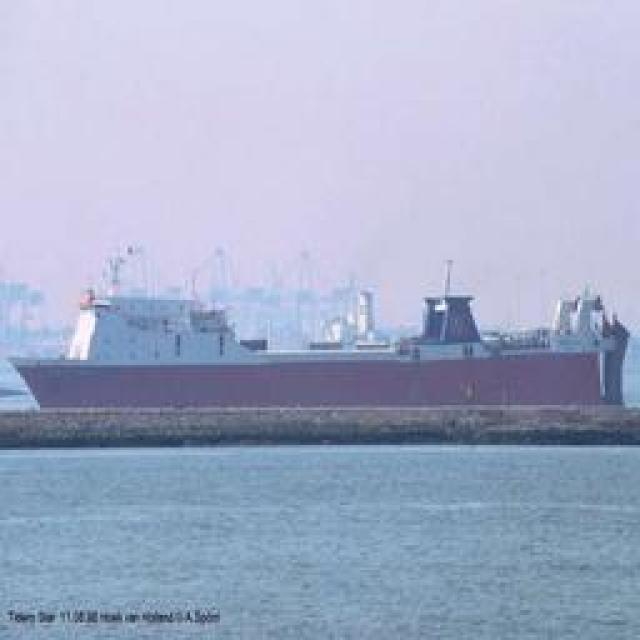CIV_Ship: (9, 272, 632, 442)
